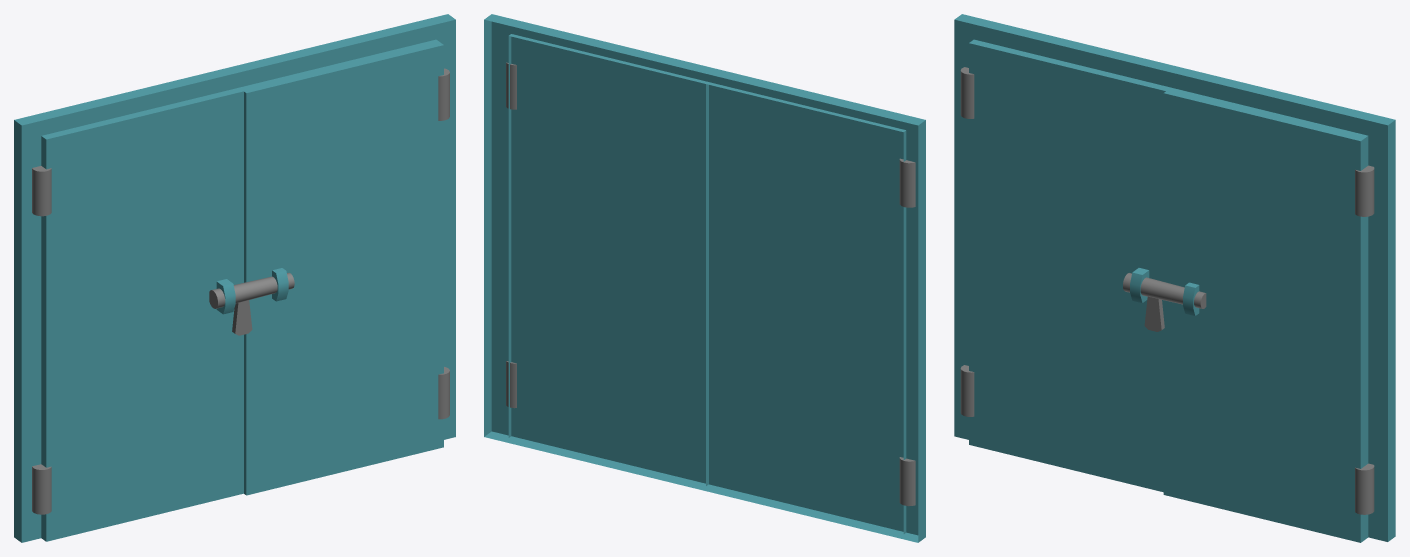
File: Garage (door).fbx
3 views of the same model, side by side, from view 1: azimuth 30°, elevation 25°; view 2: azimuth 150°, elevation 25°; view 3: azimuth 330°, elevation 25° (orthographic).
Visible parts, largest first — view 1: Garage (door); view 2: Garage (door); view 3: Garage (door).
Part boxes in pixels (x1,y1,x2,y2): Garage (door): (14,14,455,542); Garage (door): (484,14,925,542); Garage (door): (954,14,1395,542).
Bounding box in the file's own units: 531 × 488 × 45.54.
